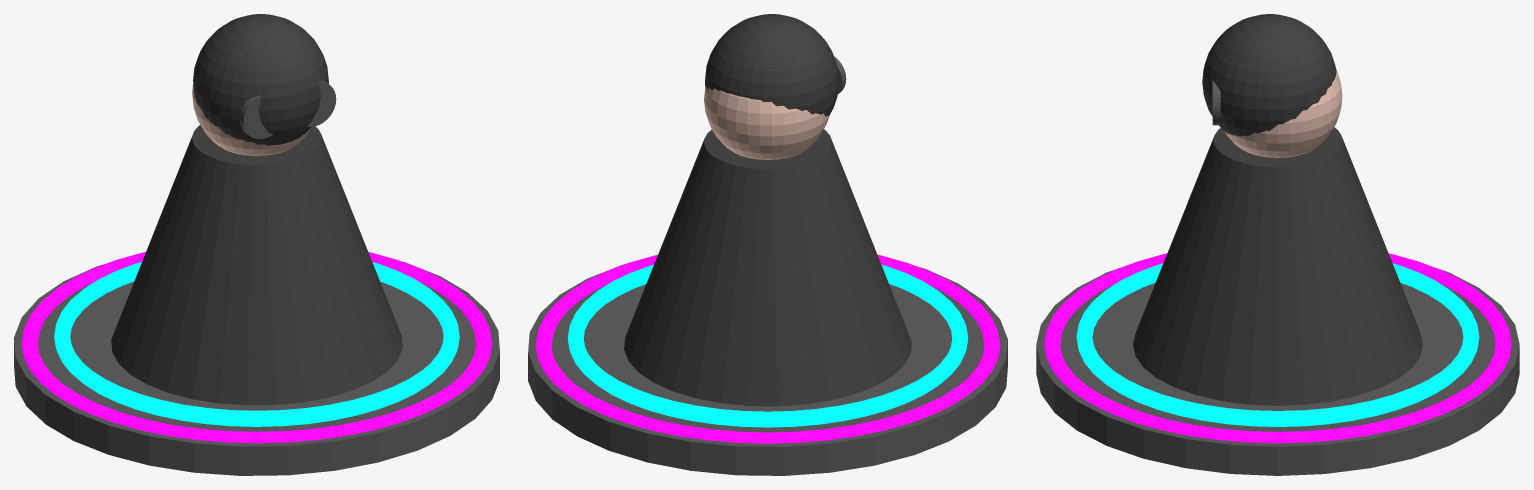
File: custom_avatar.glb
3 views of the same model, side by side, from view 1: azimuth 30°, elevation 25°; view 2: azimuth 150°, elevation 25°; view 3: azimuth 270°, elevation 25° (orthographic).
Parts seen in each view (by area): view 1: Cone, Cylinder, Sphere.001, Torus.001, Torus, Sphere, Cylinder.001, Cylinder.002; view 2: Cone, Cylinder, Torus.001, Torus, Sphere.001, Sphere; view 3: Cone, Cylinder, Sphere.001, Torus.001, Torus, Sphere.
Part boxes in pixels (bbox=[...]): Cone: bbox=[111, 125, 402, 405]; Cylinder: bbox=[14, 261, 499, 475]; Sphere.001: bbox=[193, 14, 328, 145]; Torus.001: bbox=[54, 262, 459, 426]; Torus: bbox=[21, 252, 492, 443]; Sphere: bbox=[192, 83, 311, 155]; Cylinder.001: bbox=[239, 95, 272, 139]; Cylinder.002: bbox=[306, 80, 336, 126]; Cone: bbox=[624, 129, 911, 406]; Cylinder: bbox=[528, 264, 1007, 475]; Torus.001: bbox=[567, 264, 968, 427]; Torus: bbox=[535, 254, 1000, 443]; Sphere.001: bbox=[705, 14, 838, 116]; Sphere: bbox=[704, 87, 829, 159]; Cone: bbox=[1133, 127, 1422, 405]; Cylinder: bbox=[1036, 268, 1519, 475]; Sphere.001: bbox=[1202, 14, 1336, 136]; Torus.001: bbox=[1076, 263, 1479, 426]; Torus: bbox=[1044, 253, 1511, 443]; Sphere: bbox=[1225, 69, 1342, 157].
Size of the model in its own units: 3 by 2.42 by 3.
